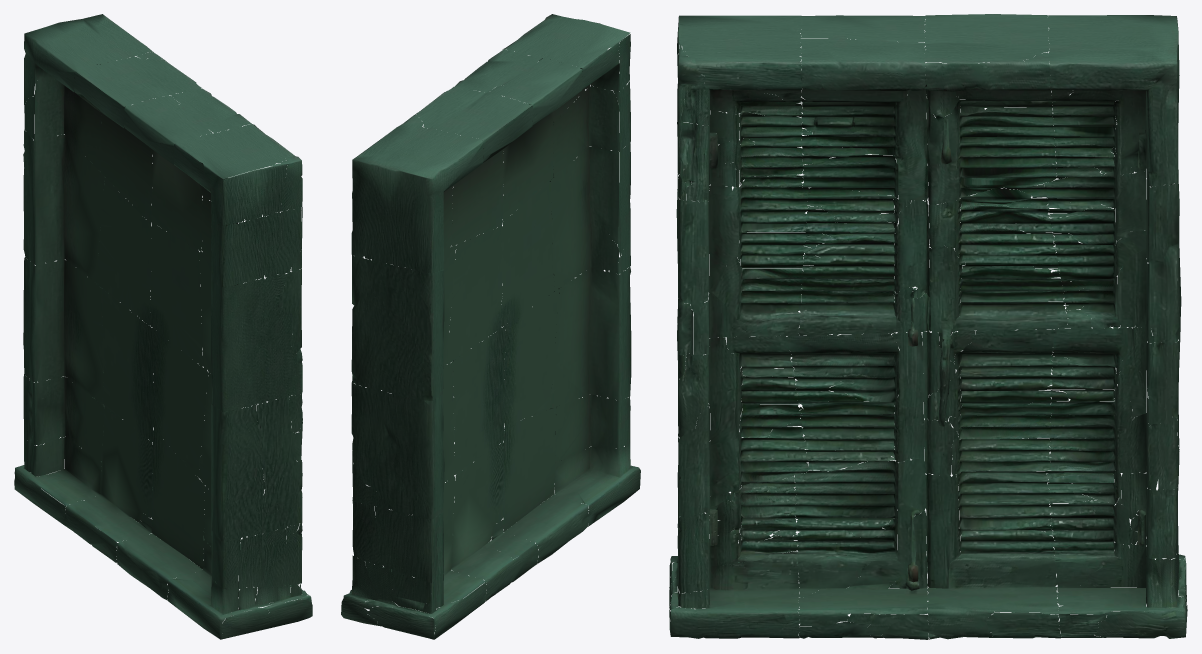
The model's file is Arch_Window_Jalousie.glb.
3 renders of one model, left to right at view 1: azimuth 30°, elevation 25°; view 2: azimuth 150°, elevation 25°; view 3: azimuth 270°, elevation 25°, orthographic. The views are drawn at different scales.
Visible parts, largest first — view 1: tripo_node_b9a6cd22-496c-460f-88b8-09474e2f901d; view 2: tripo_node_b9a6cd22-496c-460f-88b8-09474e2f901d; view 3: tripo_node_b9a6cd22-496c-460f-88b8-09474e2f901d.
Part boxes in pixels (x1,y1,x2,y2): tripo_node_b9a6cd22-496c-460f-88b8-09474e2f901d: (14,14,312,639); tripo_node_b9a6cd22-496c-460f-88b8-09474e2f901d: (341,14,640,639); tripo_node_b9a6cd22-496c-460f-88b8-09474e2f901d: (669,14,1187,639).
Bounding box in the file's own units: 0.2156 × 1 × 0.817.
1 material, 1 textured.
